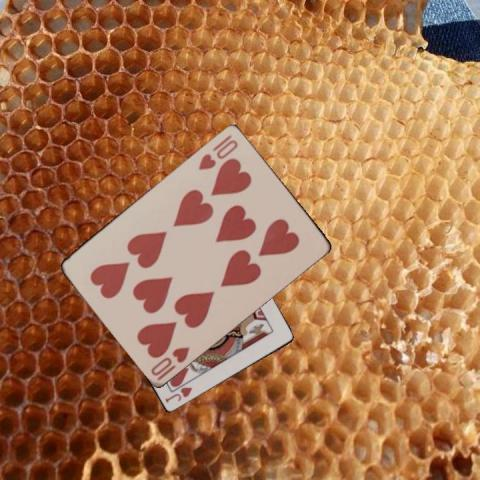10h: (195, 131, 239, 171), (148, 343, 192, 382)
Jh: (162, 384, 193, 405)
